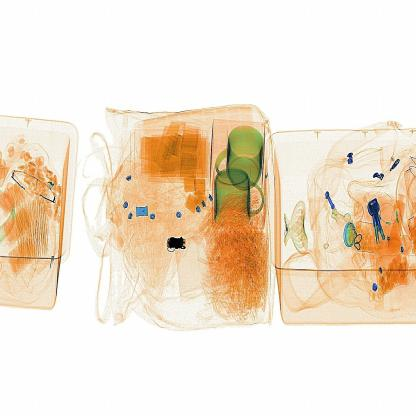scissors: (164, 219, 195, 260)
